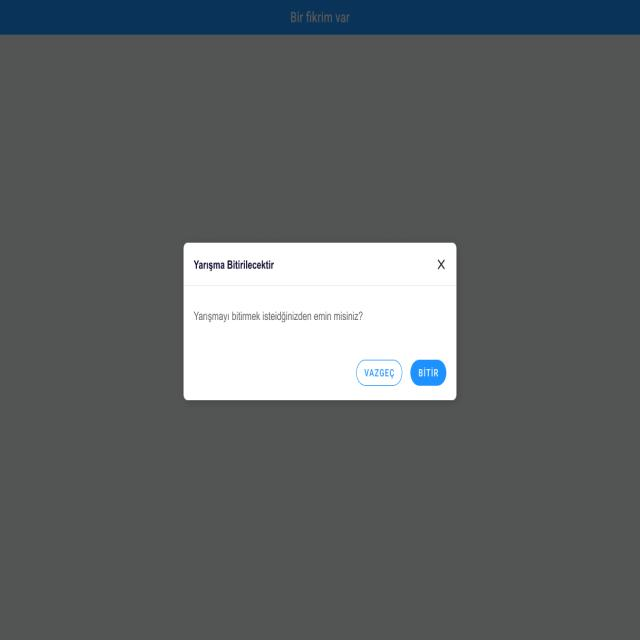QLabel: (191, 308, 364, 324), (191, 257, 275, 273), (362, 367, 394, 380), (418, 367, 440, 377)
VBtn: (355, 358, 403, 386), (410, 359, 447, 386)
VDialog: (183, 242, 457, 401)
VIcon: (435, 257, 446, 273)
